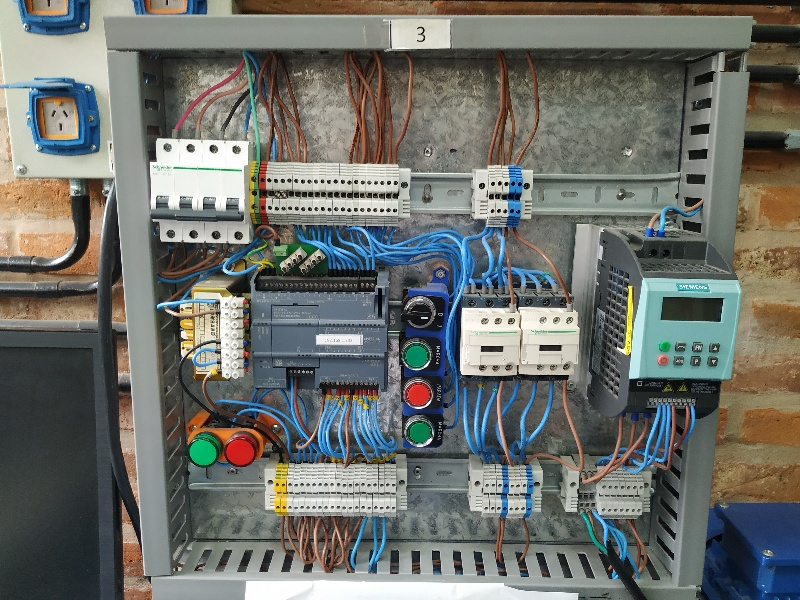Tablero 3: (123, 37, 742, 600)
